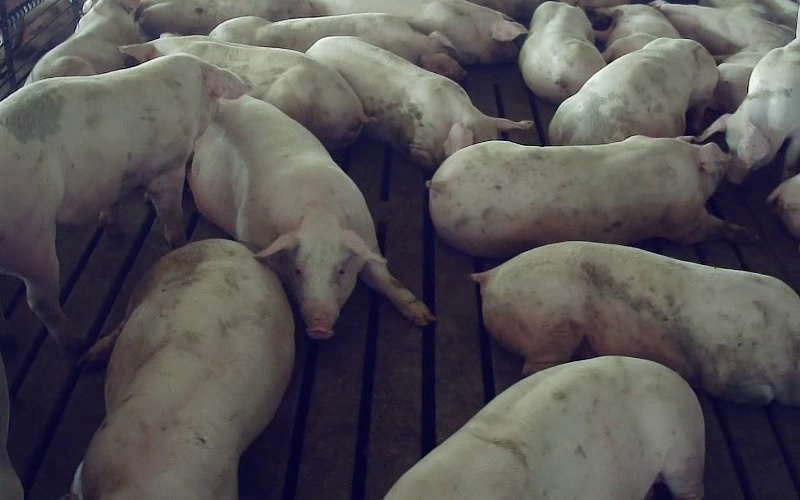pig: (0, 55, 244, 350), (188, 96, 432, 338), (71, 239, 294, 499), (473, 242, 799, 405), (385, 356, 704, 499), (429, 136, 747, 257), (307, 37, 532, 168), (121, 35, 365, 149), (549, 38, 717, 144), (210, 13, 465, 81), (700, 16, 799, 182), (313, 0, 526, 64), (518, 2, 604, 103), (650, 0, 794, 56), (135, 0, 320, 37), (592, 4, 679, 61), (712, 43, 776, 112)
